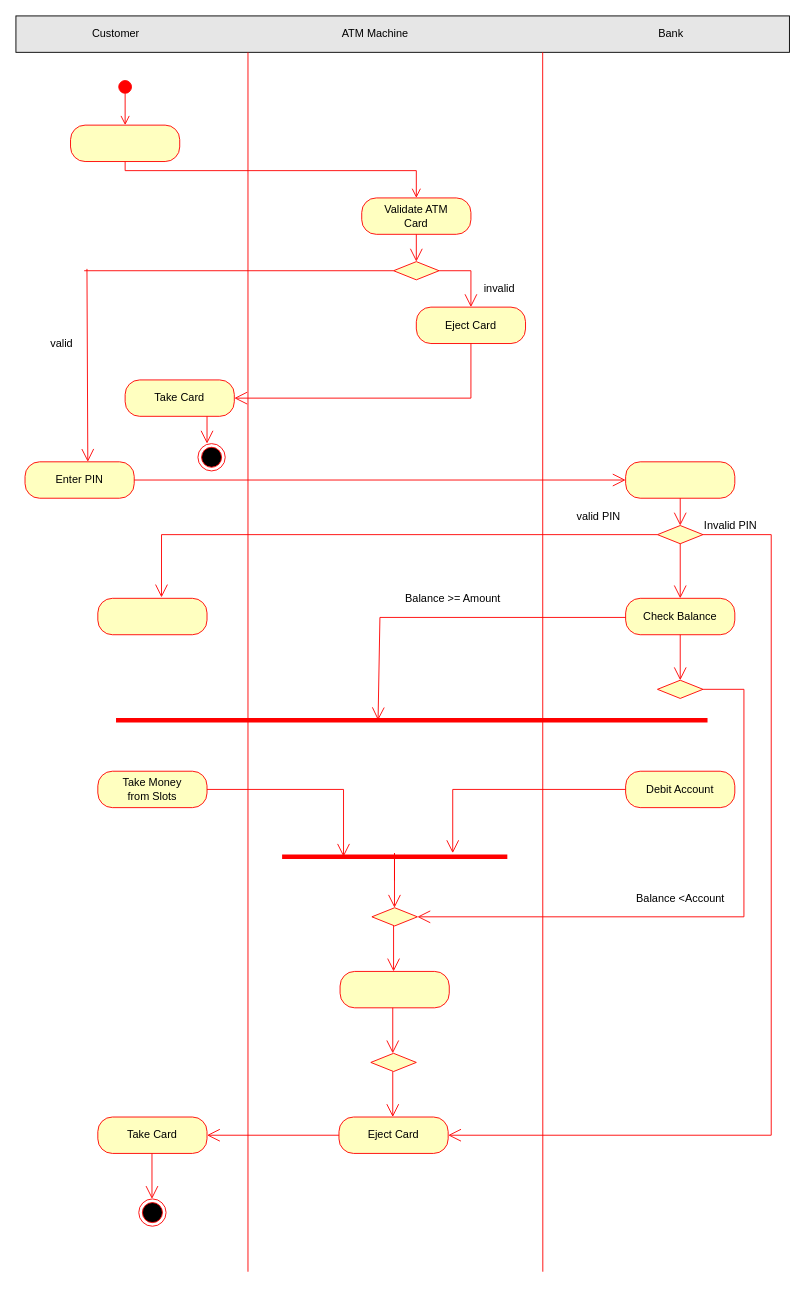
The diagram is 805 pixels wide and 1289 high, and some of its shapes have lost their labels. Here are the shapes that lost their labels. From the top down, the centre of each, then its label:
the point at 125,143: Insert ATM Card
the point at 680,479: Authorize PIN
the point at 152,616: Enter Amount
the point at 394,989: Show Balance
